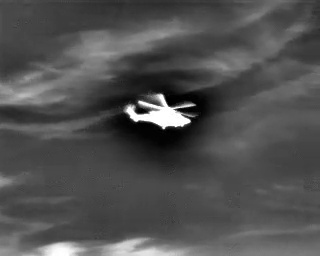HELICOPTER: (121, 88, 202, 139)
